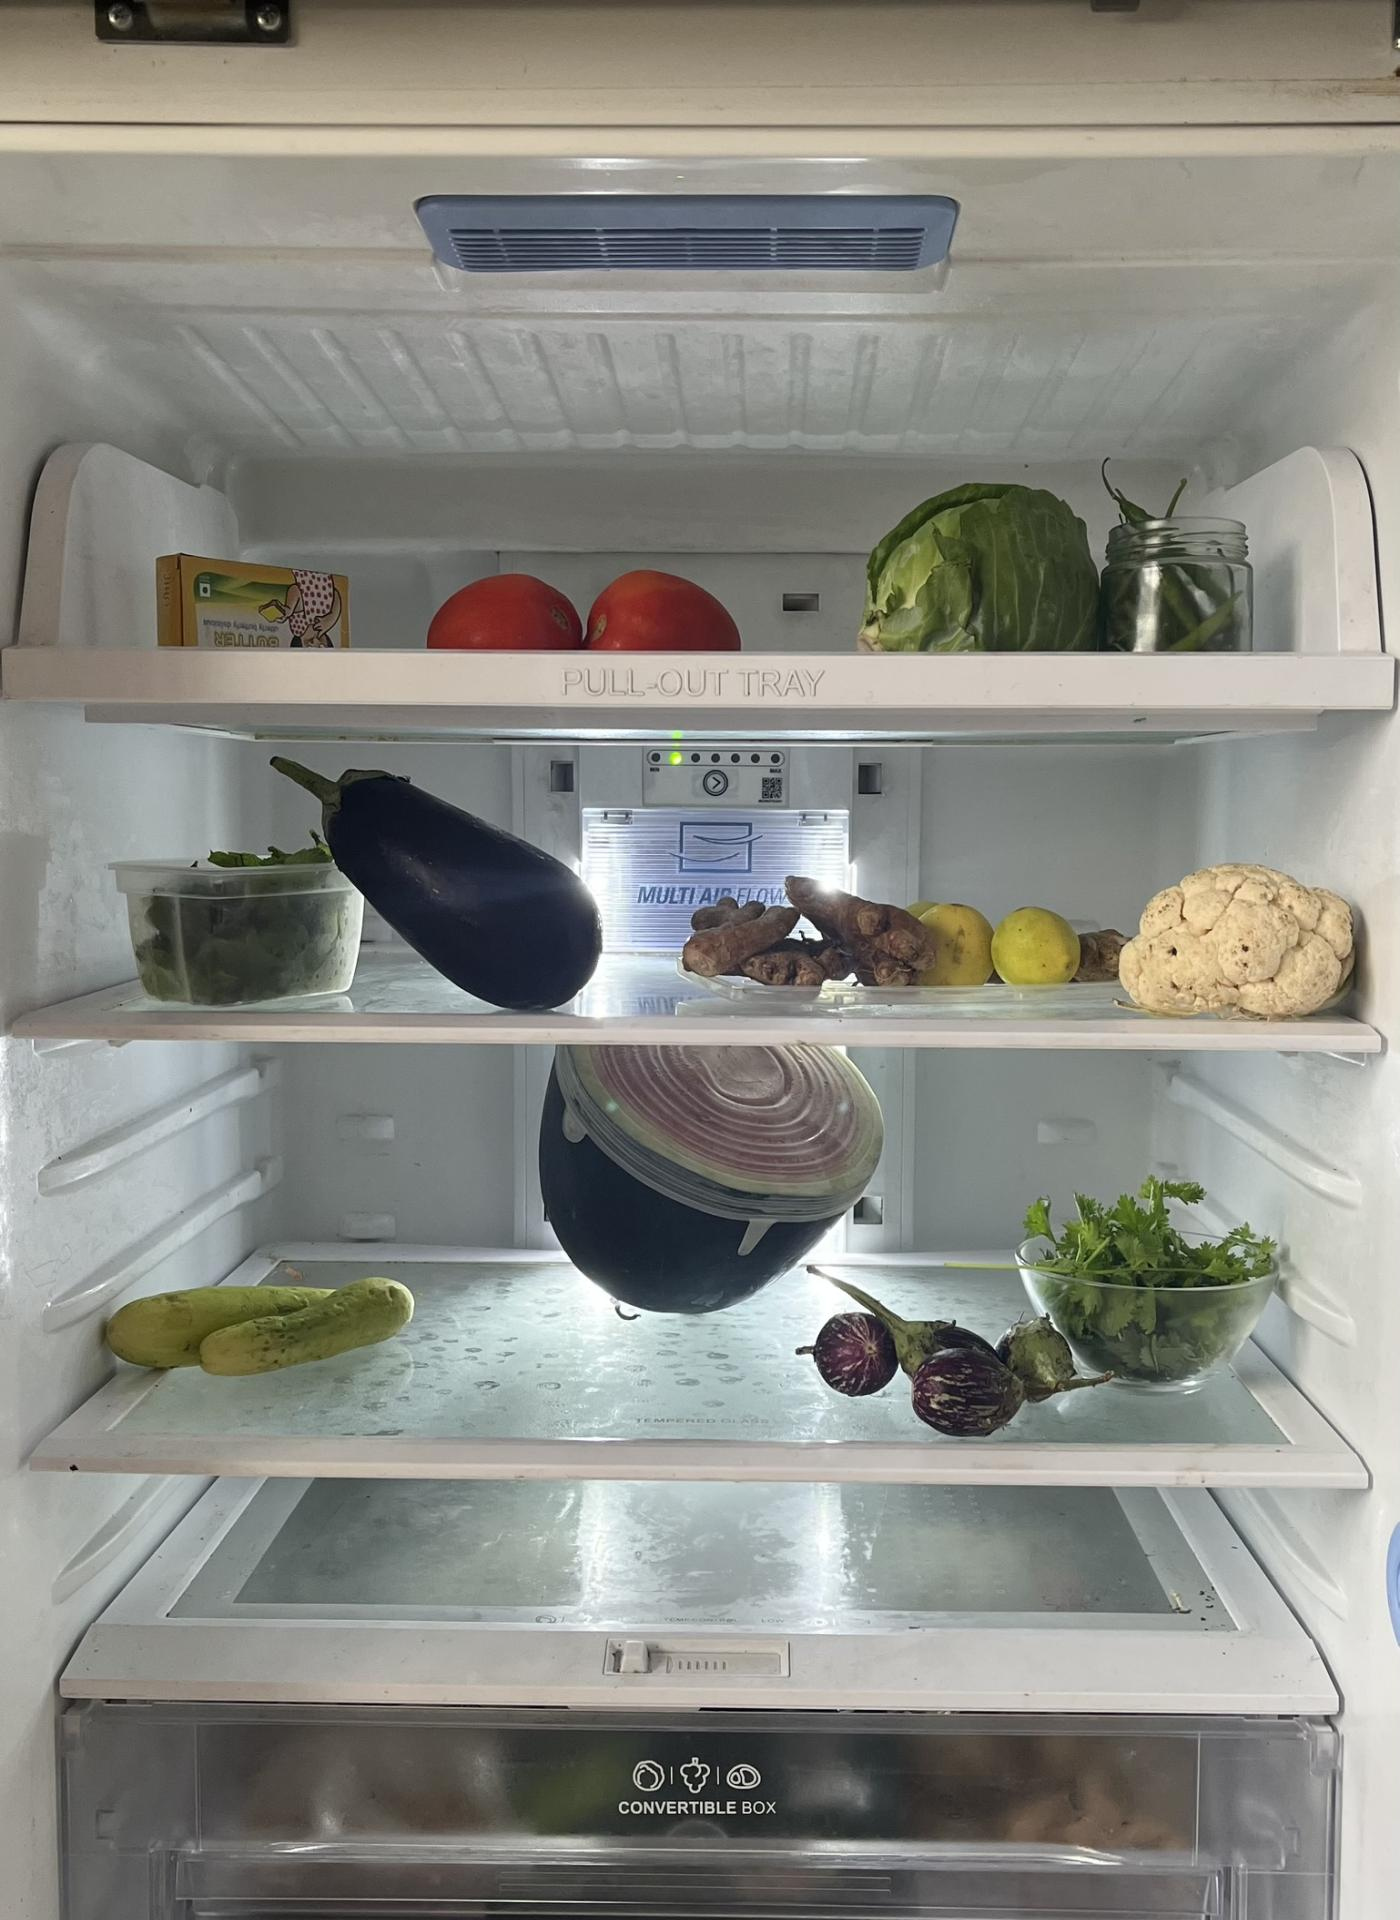basil: (130, 842, 361, 991)
brinjal: (271, 757, 605, 1009), (796, 1295, 1094, 1436)
butter: (151, 546, 355, 653)
cabbage: (859, 480, 1103, 645)
cauliflower: (1106, 857, 1364, 1017)
chillies: (1097, 468, 1257, 657)
coriander: (1018, 1181, 1273, 1385)
cucumber: (97, 1258, 423, 1379)
ginger: (680, 875, 935, 996)
lemon: (918, 902, 1090, 991)
tomato: (425, 568, 590, 653), (578, 569, 741, 651)
watermelon: (546, 1046, 898, 1324)
